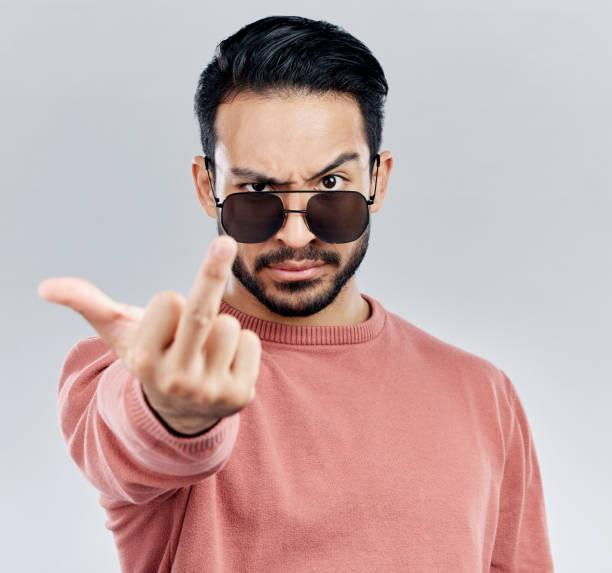insulting_gesture: (33, 237, 262, 429)
